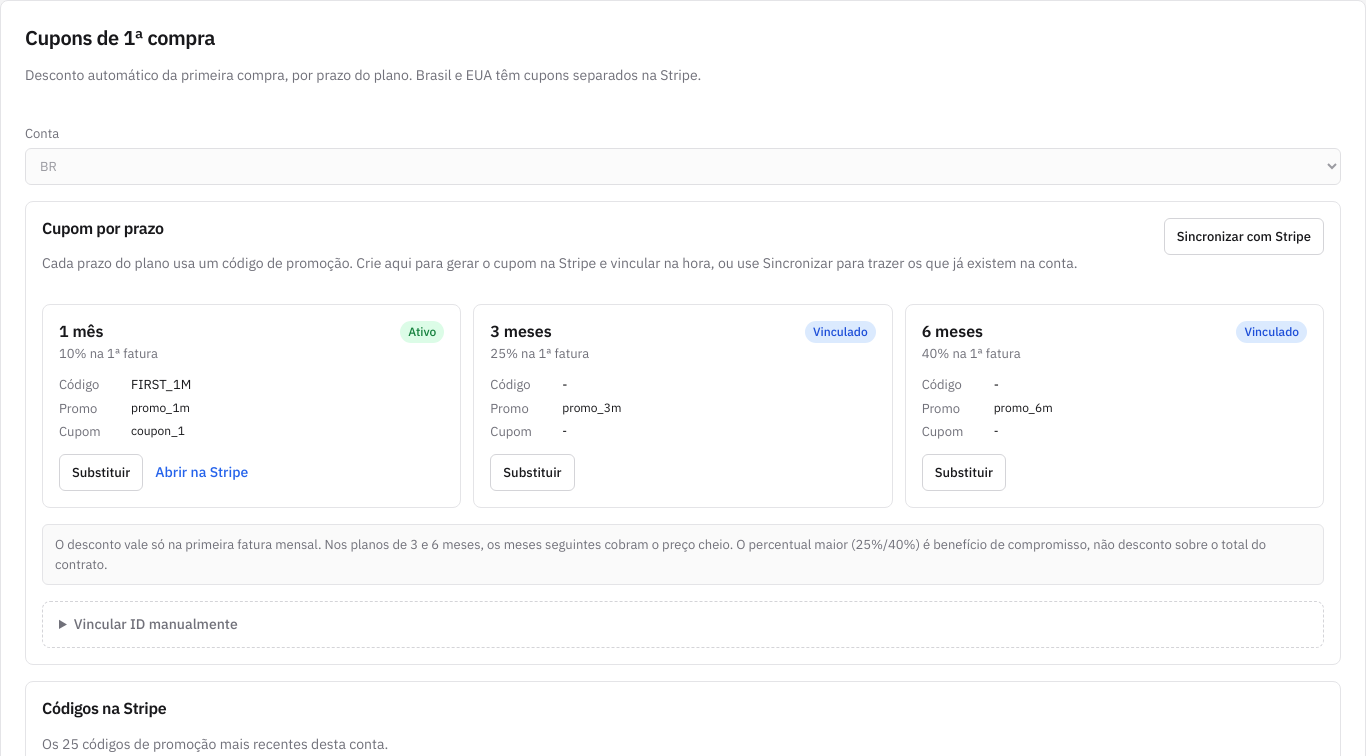
Test: CouponsPage › creates a coupon in Stripe from a term card
Step 1. Click the button with aria-label "Substituir cupom de 3 meses" → (532, 473), box [490,454,575,491]
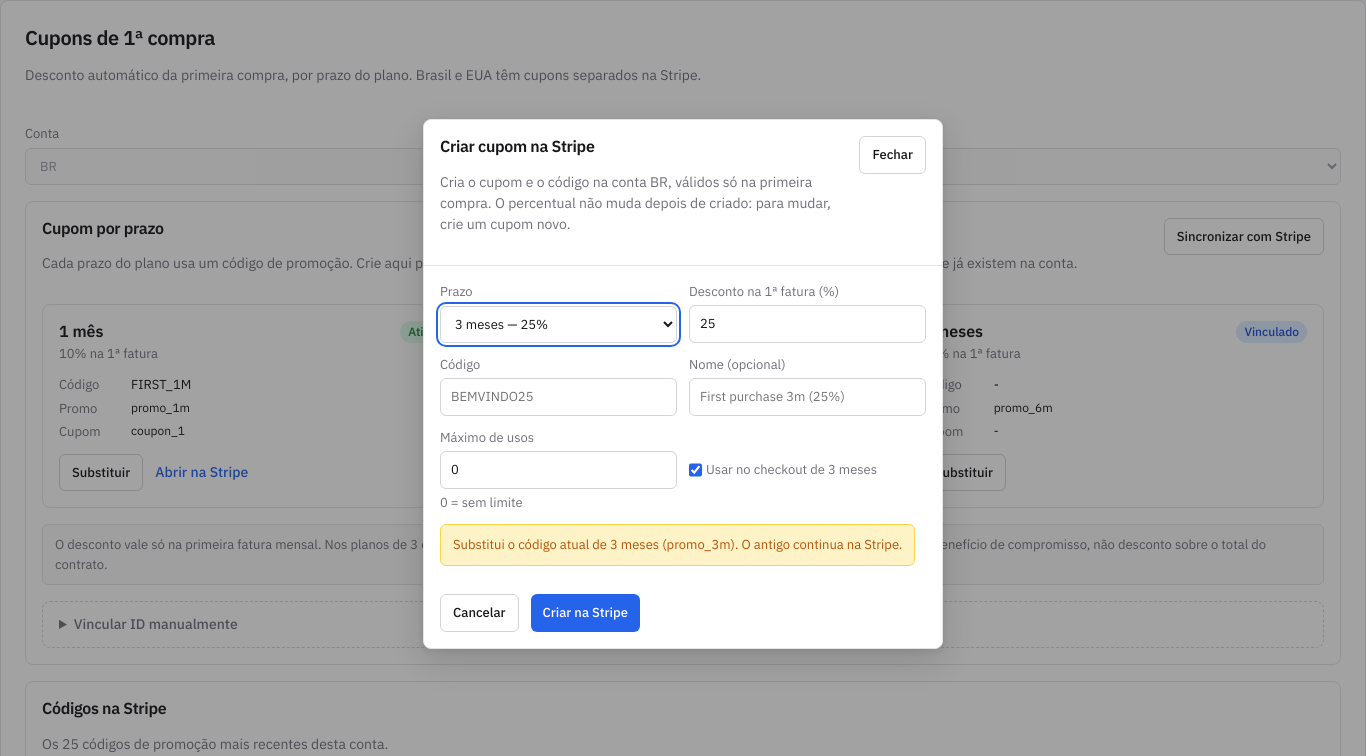
Expected: the dropdown labelled "Prazo" shows "3 meses — 25%", [440,306,677,343]
Expected: the text "Substitui o código atual de 3 meses" is shown, [440,524,915,566]
Step 2. Type "bemvindo25" into the field labelled "Código" → (558, 397), box [440,378,677,416]
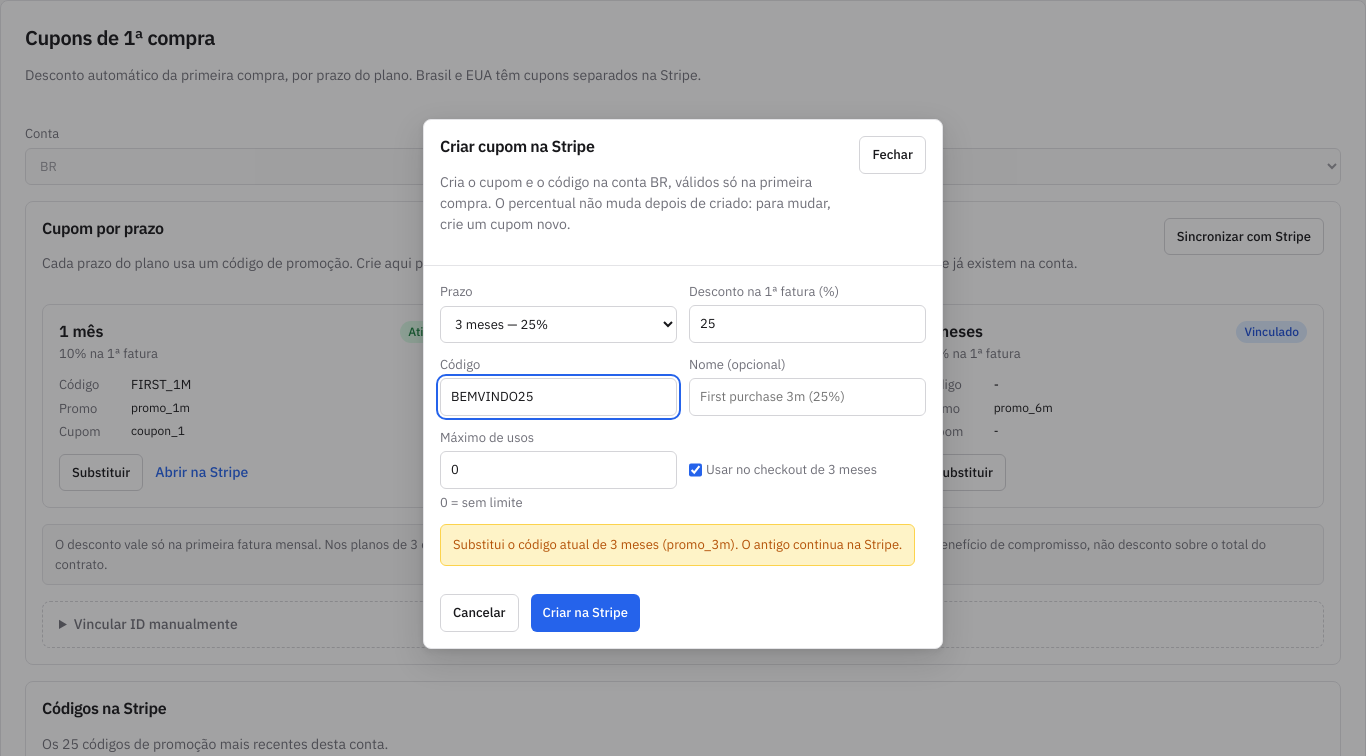
Step 3. Click the button "Criar na Stripe" → (585, 613), box [530,594,640,632]
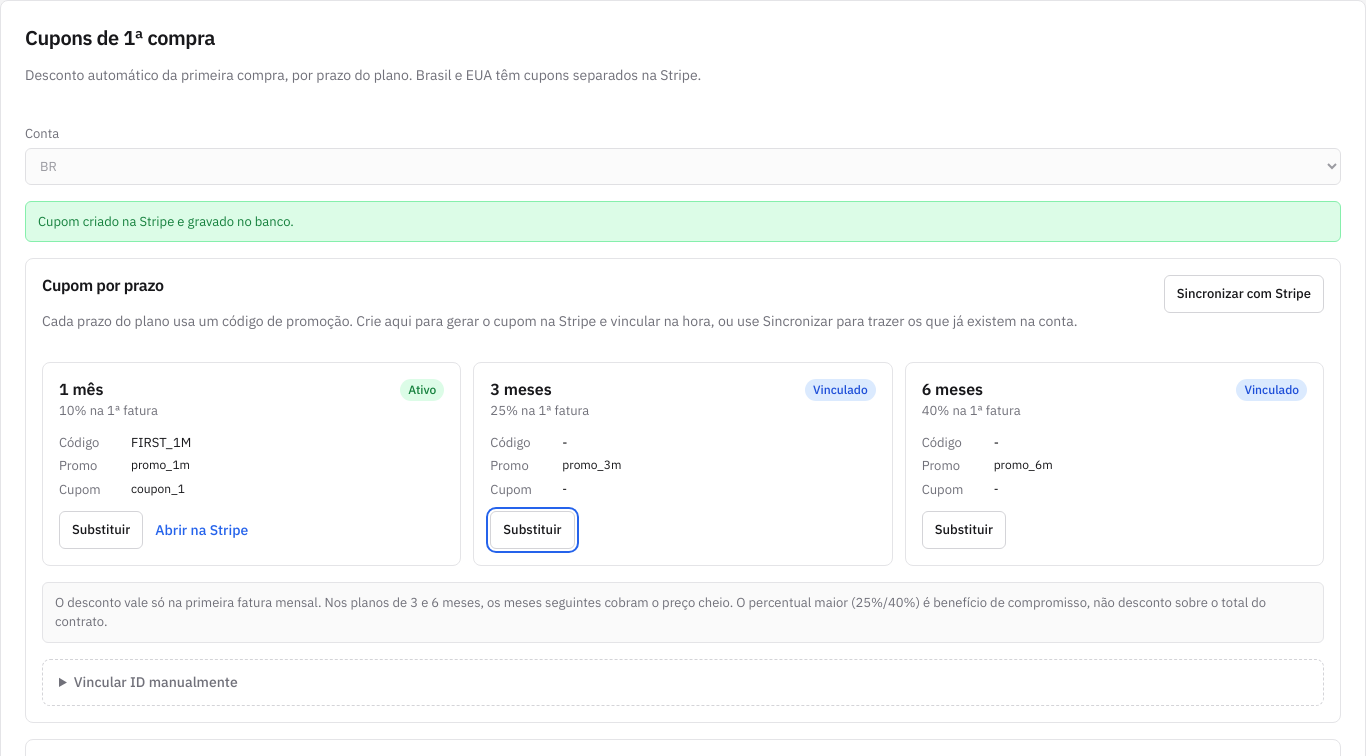
Expected: the text "Cupom criado na Stripe e gravado no banco." is shown, [25,200,1341,242]
Expected: the dialog is gone
